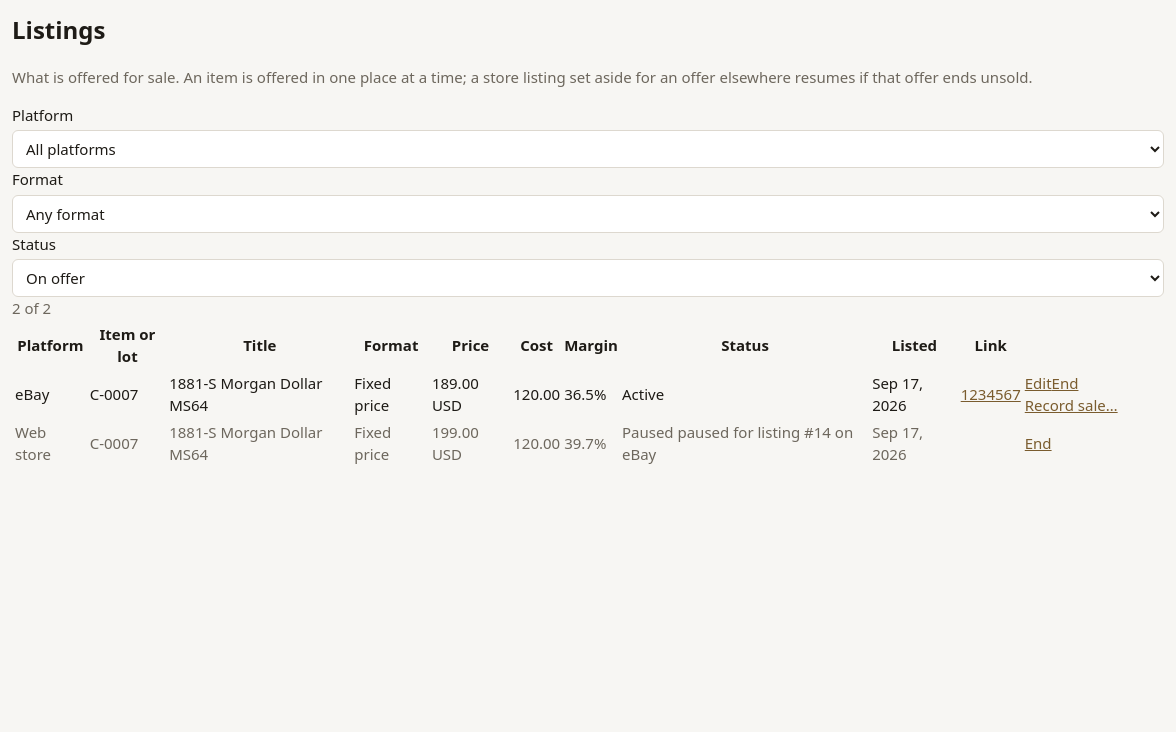
Test: Listings › takes a failed load back once the listings load again
Expected: the row "eBay" is shown, [14,370,1162,418]
Select "All, including ended" in the dropdown labelled "Status" at (588, 278), box [12,259,1164,297]
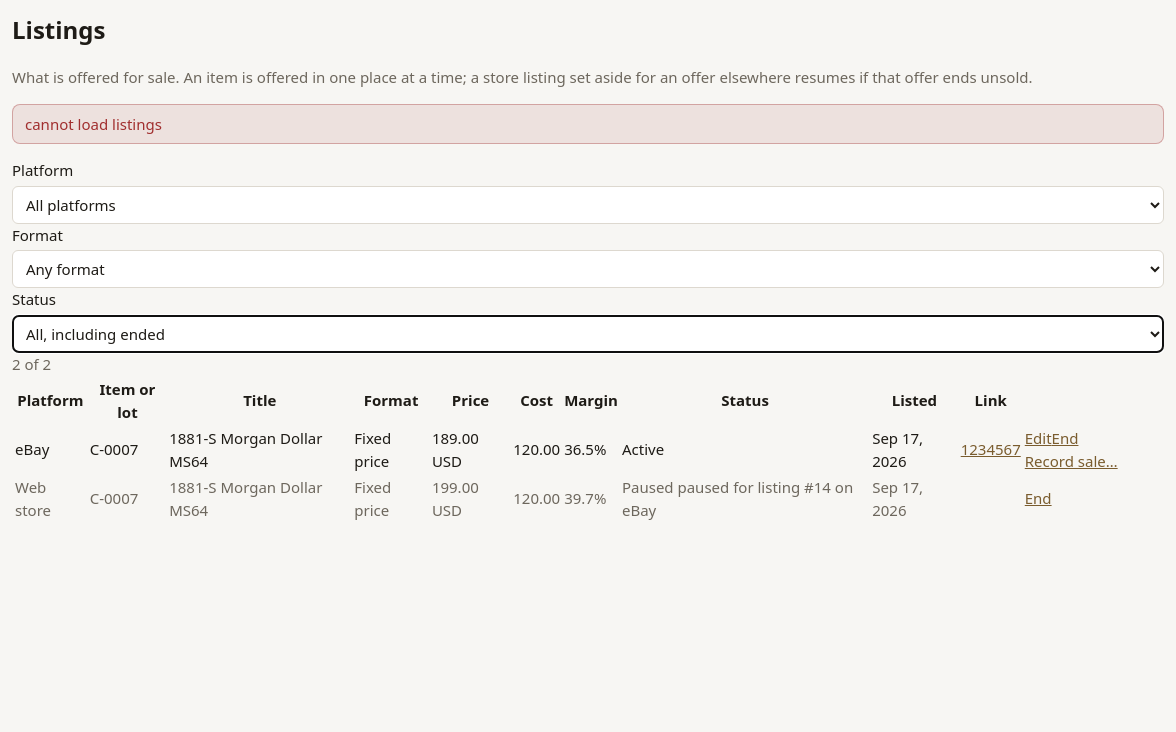
Now the text "cannot load listings" is shown, box [12,104,1164,144]
Select "On offer" in the dropdown labelled "Status" at (588, 334), box [12,314,1164,352]
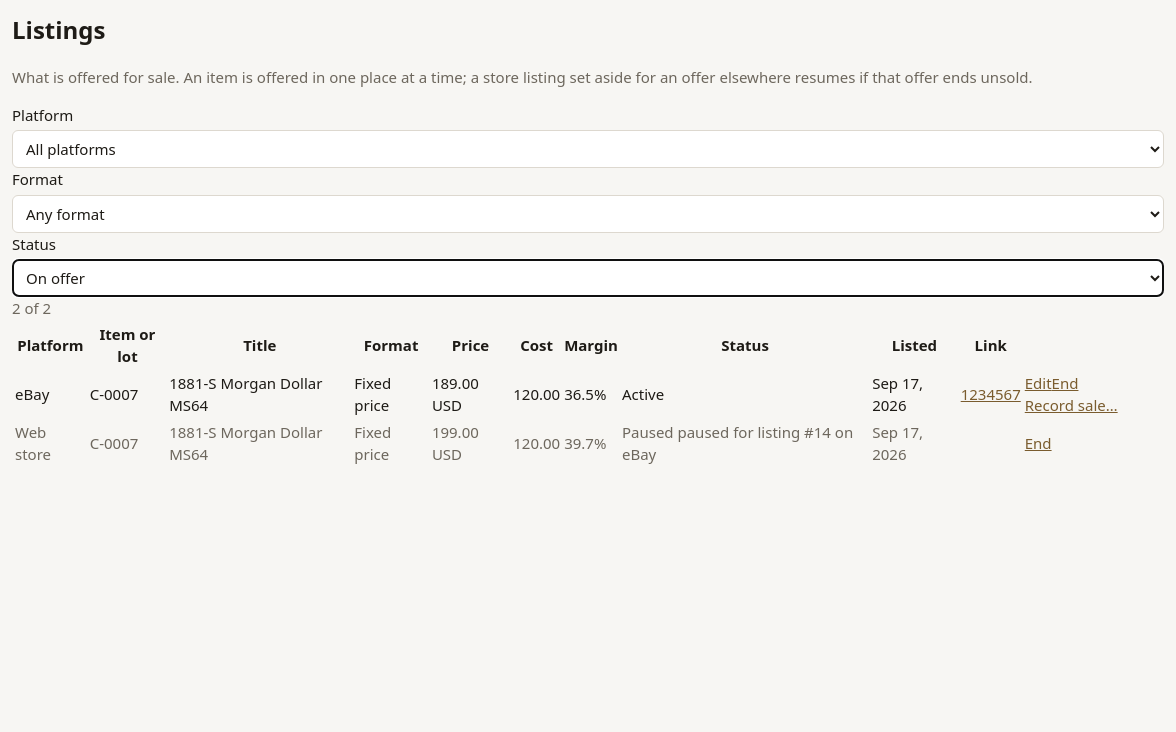
Expected: the row "eBay" is shown, [14,370,1162,418]
Now the text "cannot load listings" is gone
